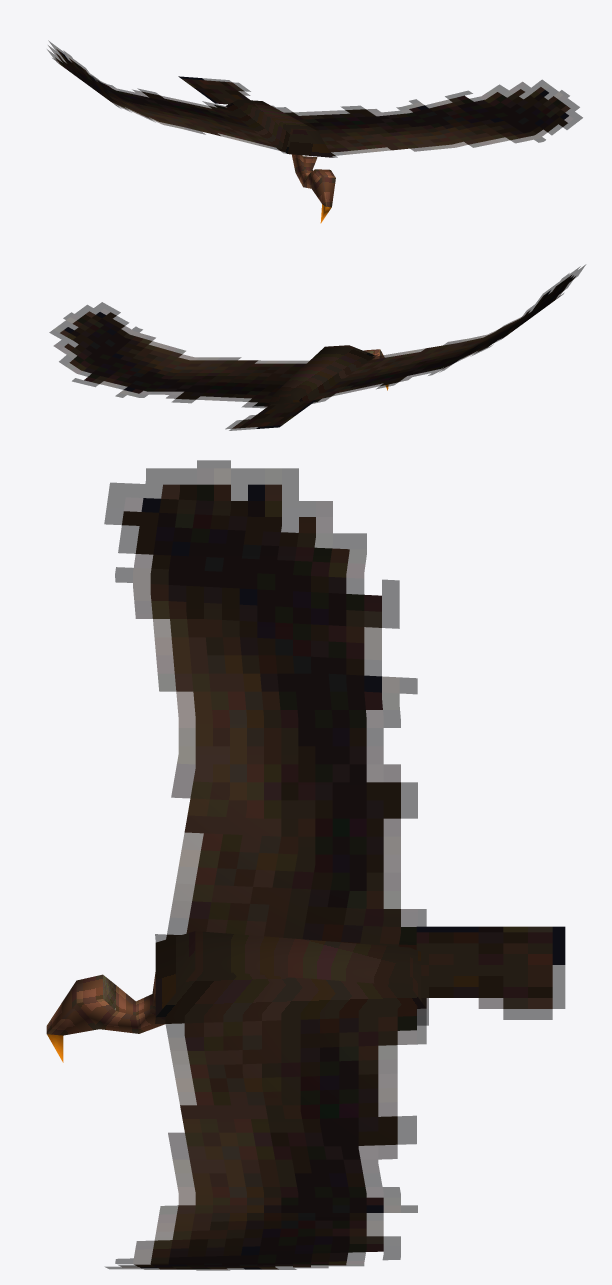
3 views of the same model, one above another, from view 1: azimuth 30°, elevation 25°; view 2: azimuth 150°, elevation 25°; view 3: azimuth 270°, elevation 25° (orthographic). The views are drawn at different scales.
Visible parts, largest first — view 1: Joke_obj_064; view 2: Joke_obj_064; view 3: Joke_obj_064.
Part boxes in pixels (box(x1,y1,x2,y2)): Joke_obj_064: box(47, 40, 582, 223); Joke_obj_064: box(49, 264, 585, 430); Joke_obj_064: box(46, 460, 565, 1270).
Bounding box in the file's own units: 0.6816 × 0.2559 × 0.3066.
3 materials, 3 textured.
